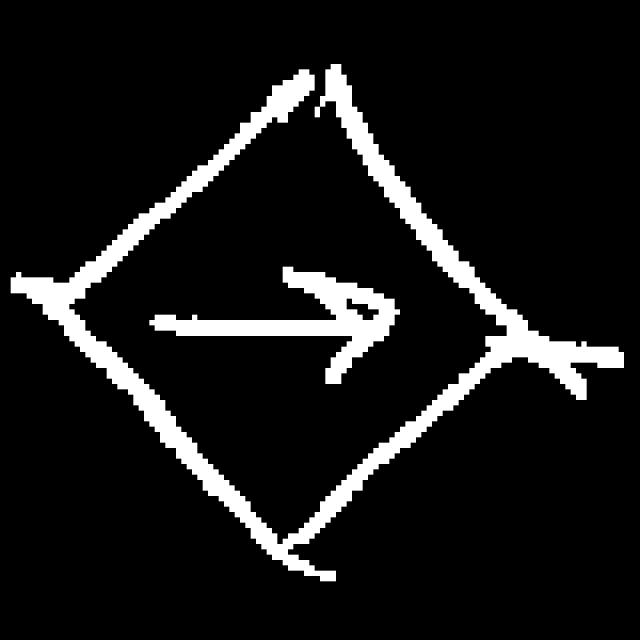dependant_current: (54, 31, 559, 567)
